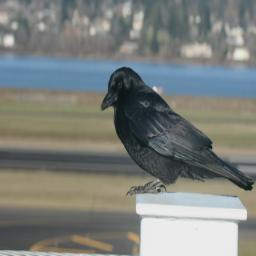Crow: (100, 65, 255, 195)
